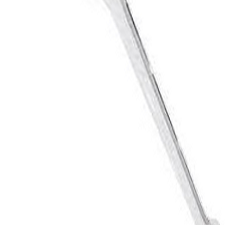Wrench: (93, 1, 225, 225)
